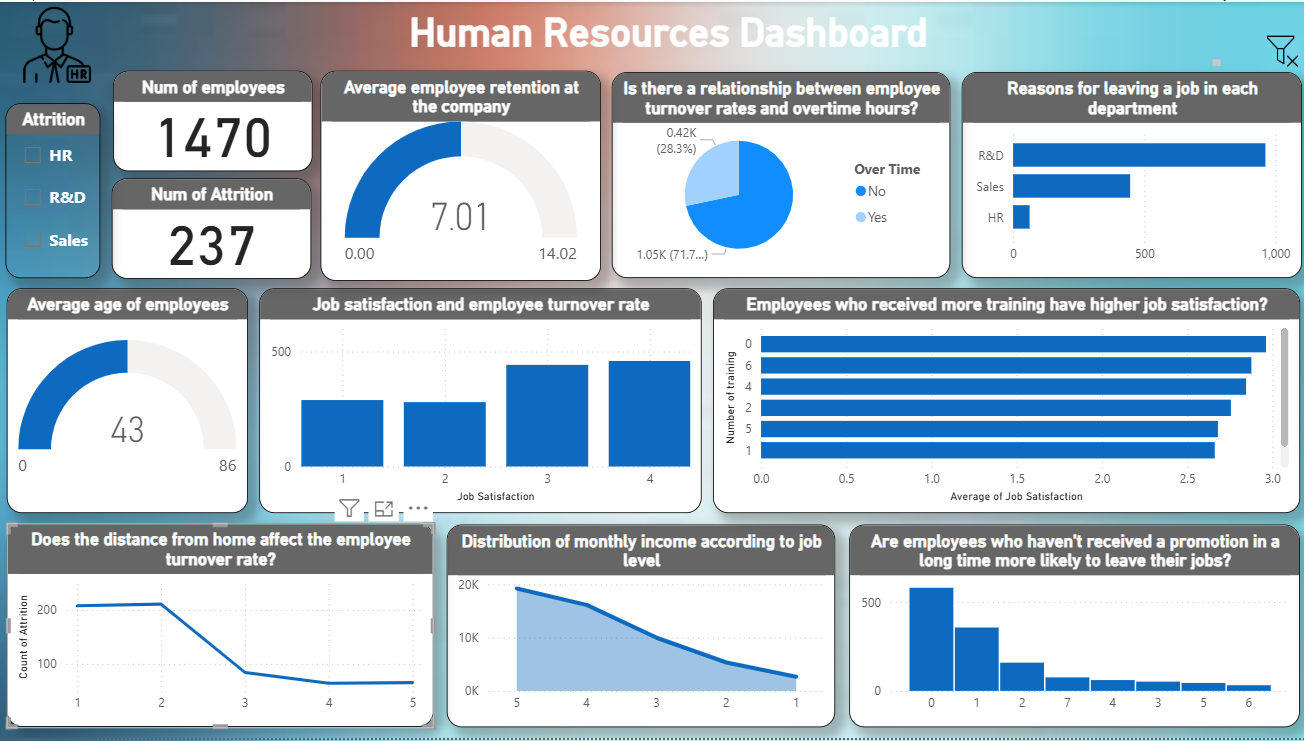

What the dashboard file says about the page in this screenshot:
{"tool":"powerbi","page":{"name":"HR","canvas":[1280,720],"ordinal":1},"visuals":[{"type":"gauge","title":"Average age of employees","fields":{"Y":["Count(HR.Age)"]},"box":[8.6,280,235.7,220],"z":0},{"type":"barChart","title":"Reasons for leaving a job in each department","fields":{"Y":["CountNonNull(HR.Attrition)"],"Category":["HR.Department"]},"box":[942.9,68.6,332.9,201.4],"z":1000},{"type":"pieChart","title":"Is there a relationship between employee turnover rates and overtime hours?","fields":{"Category":["HR.Over Time"],"Y":["CountNonNull(HR.Attrition)"]},"box":[600,68.6,331.4,201.4],"z":2000},{"type":"columnChart","title":"Job satisfaction and employee turnover rate","fields":{"Category":["HR.Job Satisfaction"],"Y":["CountNonNull(HR.Attrition)"]},"box":[255.7,280,432.9,220],"z":3000},{"type":"areaChart","title":"Distribution of monthly income according to job level","fields":{"Category":["HR.Job Level"],"Y":["Median(HR.Monthly Income)"]},"box":[438.6,511.4,380,198.6],"z":4000},{"type":"barChart","title":"Employees who received more training have higher job satisfaction?","fields":{"Category":["HR.Training Times Last Year"],"Y":["Avg(HR.Job Satisfaction)"]},"box":[700,280,574,220],"z":5000},{"type":"clusteredColumnChart","title":"Are employees who haven''t received a promotion in a long time more likely to leave their jobs?","fields":{"Category":["HR.Years Since Last Promotion"],"Y":["CountNonNull(HR.Attrition)"]},"box":[832.9,511.4,441,198.6],"z":6000},{"type":"lineChart","title":"Does the distance from home affect the employee turnover rate?","fields":{"Y":["CountNonNull(HR.Attrition)"],"Category":["HR.Distance From Home"]},"box":[8.6,510.4,417.7,199.6],"z":7000},{"type":"card","title":"Num of employees ","fields":{"Values":["CountNonNull(HR.Employee Count)"]},"box":[112.9,67.1,195,98],"z":8000},{"type":"card","title":"Num of Attrition","fields":{"Values":["Sum(HR.Num attrition)"]},"box":[111.4,172.9,195,98],"z":9000},{"type":"gauge","title":"Average employee retention at the company","fields":{"Y":["Avg(HR.Years At Company)"]},"box":[315.7,67.1,274.3,205.7],"z":10000},{"type":"textbox","title":"Human Resources Dashboard","box":[111.3,7.3,1089.5,59.9],"z":11000},{"type":"image","box":[15.7,0,84.3,84.3],"z":12000},{"type":"image","box":[1232.6,28.1,47.7,40.4],"z":13000},{"type":"slicer","title":"Attrition","fields":{"Values":["HR.Department"]},"box":[7.3,99,92.9,171.2],"z":14000}]}

Visuals, with their boxes in screenshot pixels (x1, y1, x2, y2), scaled from the page's 1280x720 canvas onto the 1304x741 screenshot:
"Average age of employees" gauge: left=9, top=288, right=249, bottom=515
"Reasons for leaving a job in each department" barChart: left=961, top=71, right=1300, bottom=278
"Is there a relationship between employee turnover rates and overtime hours?" pieChart: left=611, top=71, right=949, bottom=278
"Job satisfaction and employee turnover rate" columnChart: left=260, top=288, right=702, bottom=515
"Distribution of monthly income according to job level" areaChart: left=447, top=526, right=834, bottom=731
"Employees who received more training have higher job satisfaction?" barChart: left=713, top=288, right=1298, bottom=515
"Are employees who haven''t received a promotion in a long time more likely to leave their jobs?" clusteredColumnChart: left=849, top=526, right=1298, bottom=731
"Does the distance from home affect the employee turnover rate?" lineChart: left=9, top=525, right=434, bottom=731
"Num of employees " card: left=115, top=69, right=314, bottom=170
"Num of Attrition" card: left=113, top=178, right=312, bottom=279
"Average employee retention at the company" gauge: left=322, top=69, right=601, bottom=281
"Human Resources Dashboard" textbox: left=113, top=8, right=1223, bottom=69
image: left=16, top=0, right=102, bottom=87
image: left=1256, top=29, right=1303, bottom=70
"Attrition" slicer: left=7, top=102, right=102, bottom=278
